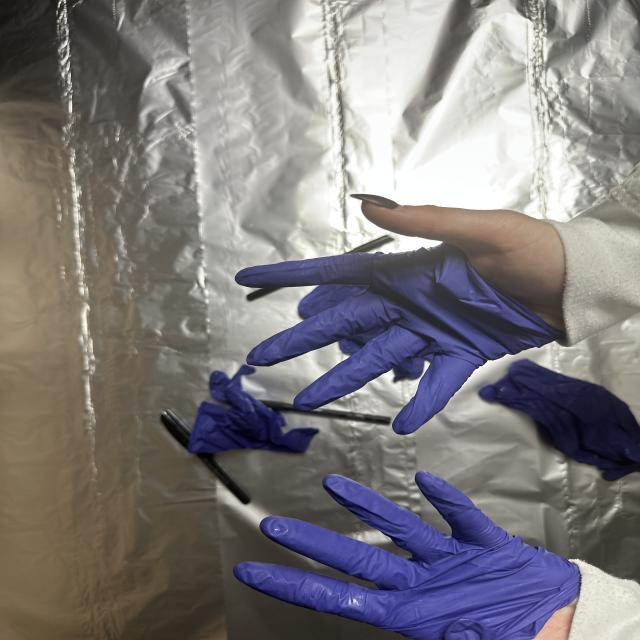glove_partial: (228, 186, 560, 436), (230, 469, 587, 640)
